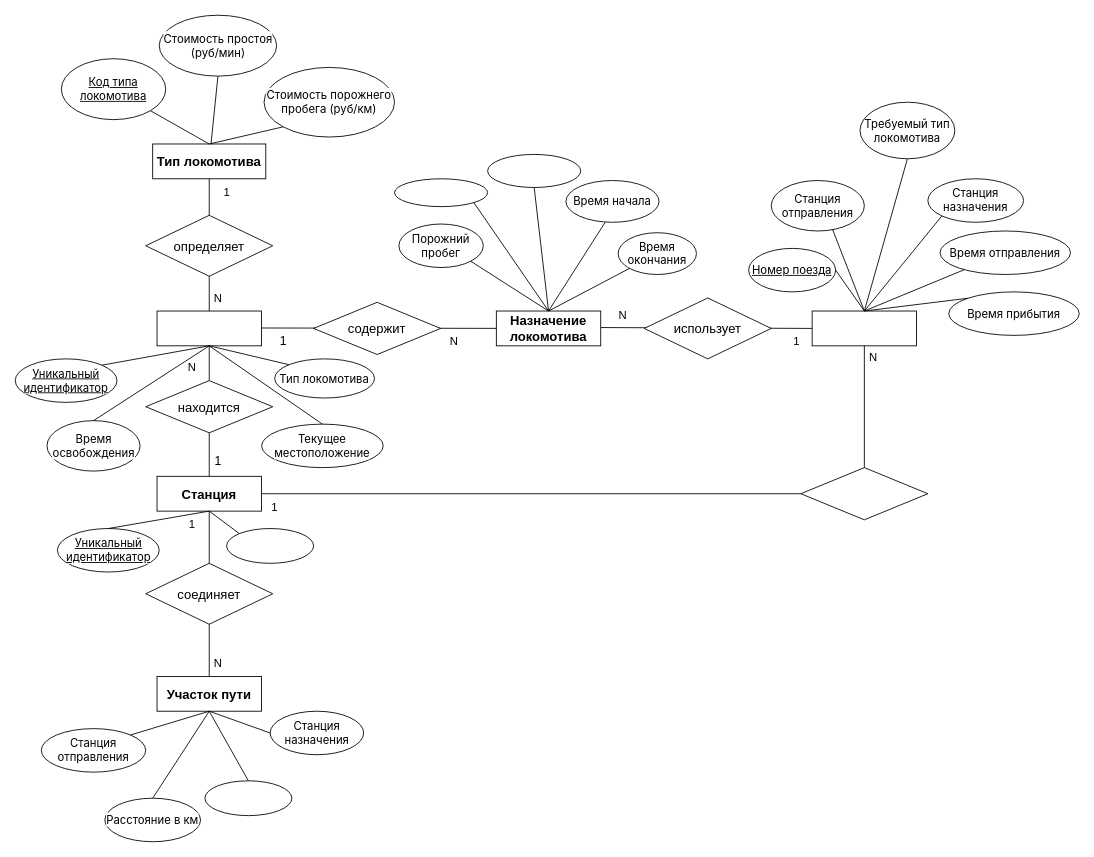
The diagram is 1094 pixels wide and 857 high, and some of its shapes have lost their labels. The shapes that lost their labels are listed below. From the top down, each one's centre as x and y in pixels, then its label:
At (534,170): "ID локомотива".
At (441,192): "ID поезда".
At (208,328): "Локомотив".
At (864,328): "Поезд".
At (864,493): "следует".
At (270,545): "Название".
At (248,798): "Время в пути".
